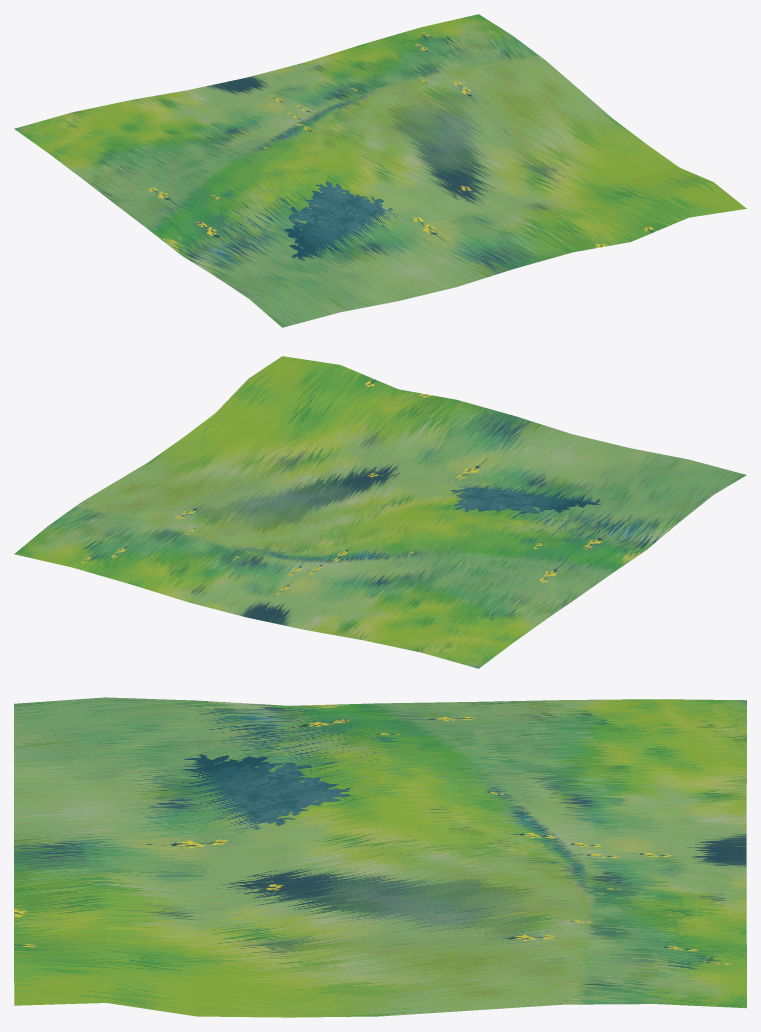
Rendered from floor_grass.glb.
The picture shows the model from 3 angles, top to bottom: view 1: azimuth 30°, elevation 25°; view 2: azimuth 150°, elevation 25°; view 3: azimuth 270°, elevation 25°; orthographic projection. The views are drawn at different scales.
Visible parts, largest first — view 1: grass_emitter; view 2: grass_emitter; view 3: grass_emitter.
Part boxes in pixels (x1,y1,x2,y2): grass_emitter: (14,14,746,327); grass_emitter: (14,356,746,668); grass_emitter: (14,697,746,1017).
Size of the model in its own units: 10.14 by 0.4509 by 10.14.
Materials: 1 (1 with a texture image).
